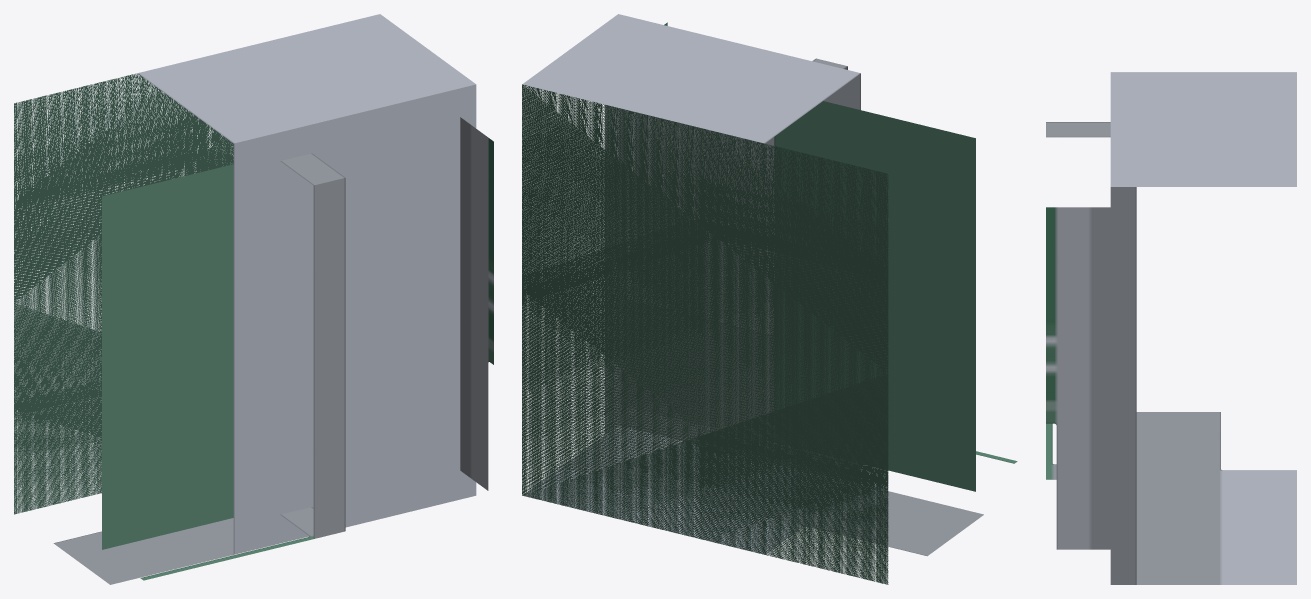
File: section-1.obj
3 views of the same model, side by side, from view 1: azimuth 30°, elevation 25°; view 2: azimuth 150°, elevation 25°; view 3: azimuth 270°, elevation 25° (orthographic). The views are drawn at different scales.
Bounding box in the file's own units: 0.8928 × 0.9583 × 0.5474.
